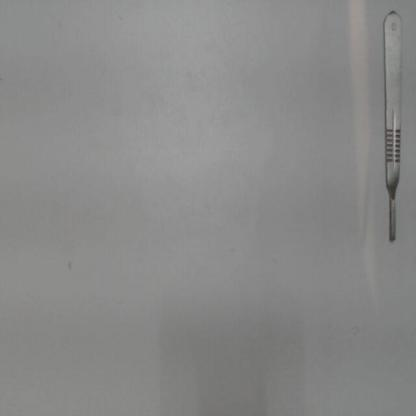No.4 BP Handle: (377, 7, 408, 250)
